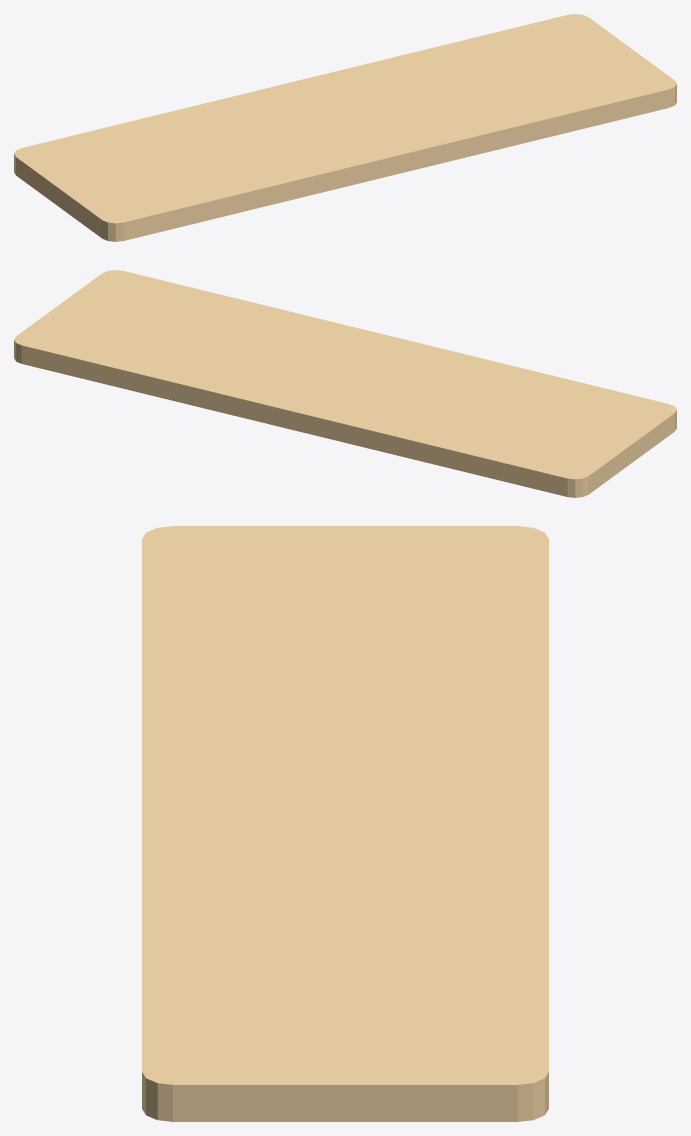
File: Plank.fbx
3 views of the same model, one above another, from view 1: azimuth 30°, elevation 25°; view 2: azimuth 150°, elevation 25°; view 3: azimuth 270°, elevation 25° (orthographic). The views are drawn at different scales.
Parts seen in each view (by area): view 1: Plank; view 2: Plank; view 3: Plank.
Boxes of the visible parts, x1=… form: Plank: x1=14, y1=14, x2=676, y2=241; Plank: x1=14, y1=270, x2=676, y2=497; Plank: x1=142, y1=526, x2=548, y2=1121.
Size of the model in its own units: 76.57 by 2.37 by 23.57.
